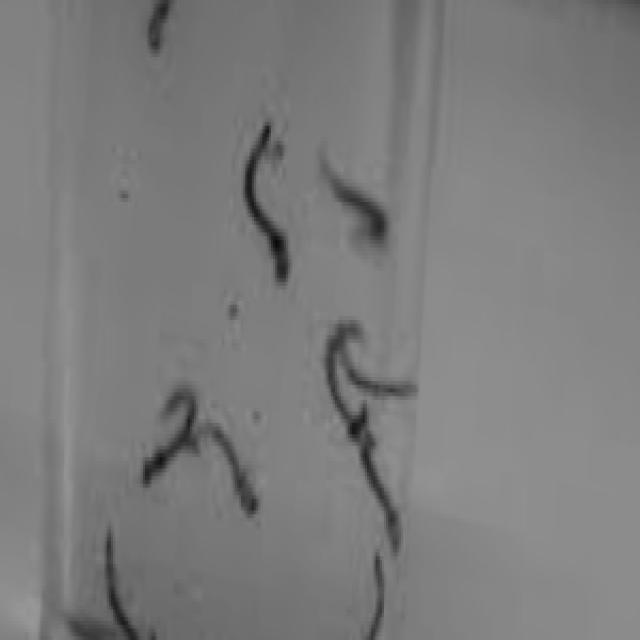larvas: (243, 122, 290, 280), (107, 528, 161, 640), (200, 417, 260, 517), (360, 450, 411, 554), (324, 154, 387, 236), (142, 392, 198, 484), (324, 312, 363, 435), (344, 359, 420, 405), (366, 553, 385, 640), (147, 1, 172, 55)
